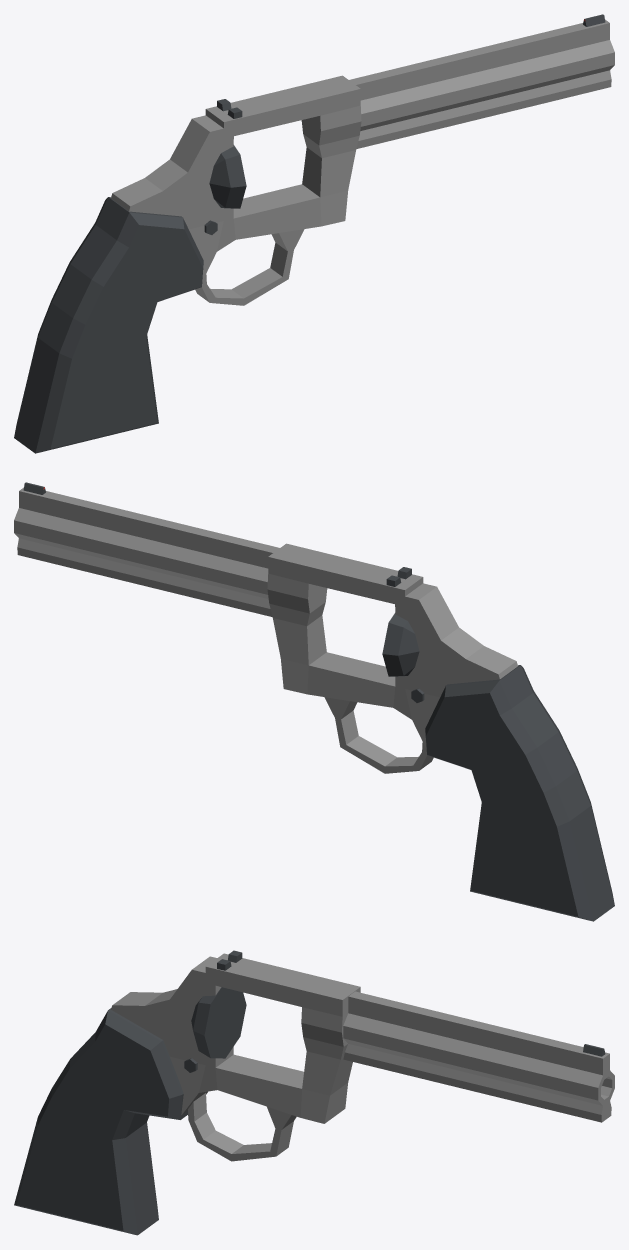
File: Pistol5_02.fbx
3 renders of one model, top to bottom at view 1: azimuth 30°, elevation 25°; view 2: azimuth 150°, elevation 25°; view 3: azimuth 330°, elevation 25°, orthographic.
Visible parts, largest first — view 1: Pistol5_02; view 2: Pistol5_02; view 3: Pistol5_02.
Boxes of the visible parts, bbox=[...] form: Pistol5_02: bbox=[14, 14, 614, 453]; Pistol5_02: bbox=[14, 482, 614, 921]; Pistol5_02: bbox=[14, 950, 614, 1235].
Bounding box in the file's own units: 0.3781 × 0.18 × 0.0474.
